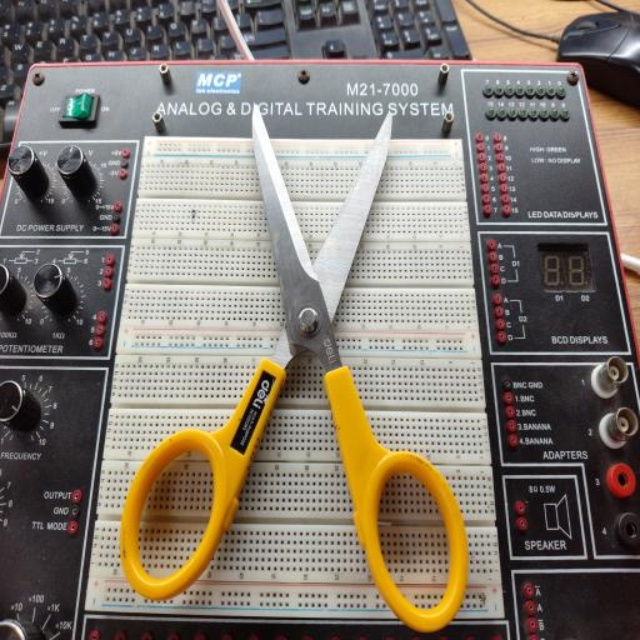scissor: (118, 101, 475, 634)
